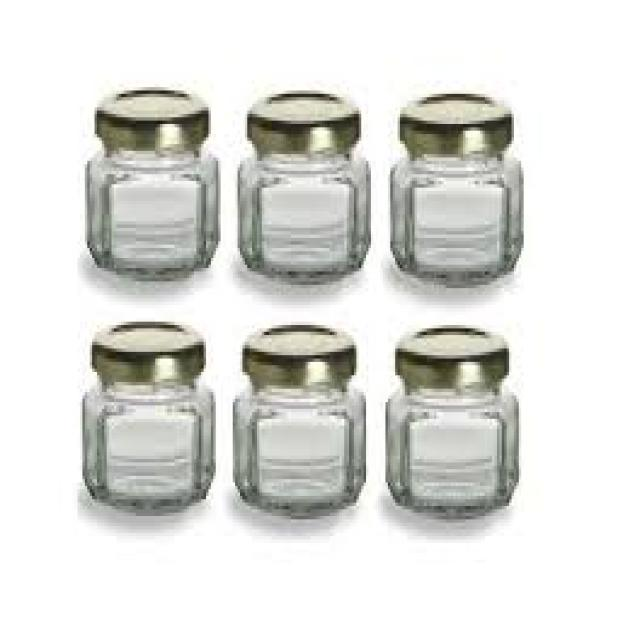glass: (386, 144, 522, 282), (386, 379, 517, 516), (231, 379, 362, 516), (85, 144, 216, 278), (80, 379, 211, 513), (235, 151, 369, 278)
metal: (395, 87, 512, 158), (393, 318, 504, 389), (90, 81, 206, 148), (240, 318, 354, 379), (90, 322, 204, 382), (245, 90, 356, 151)
